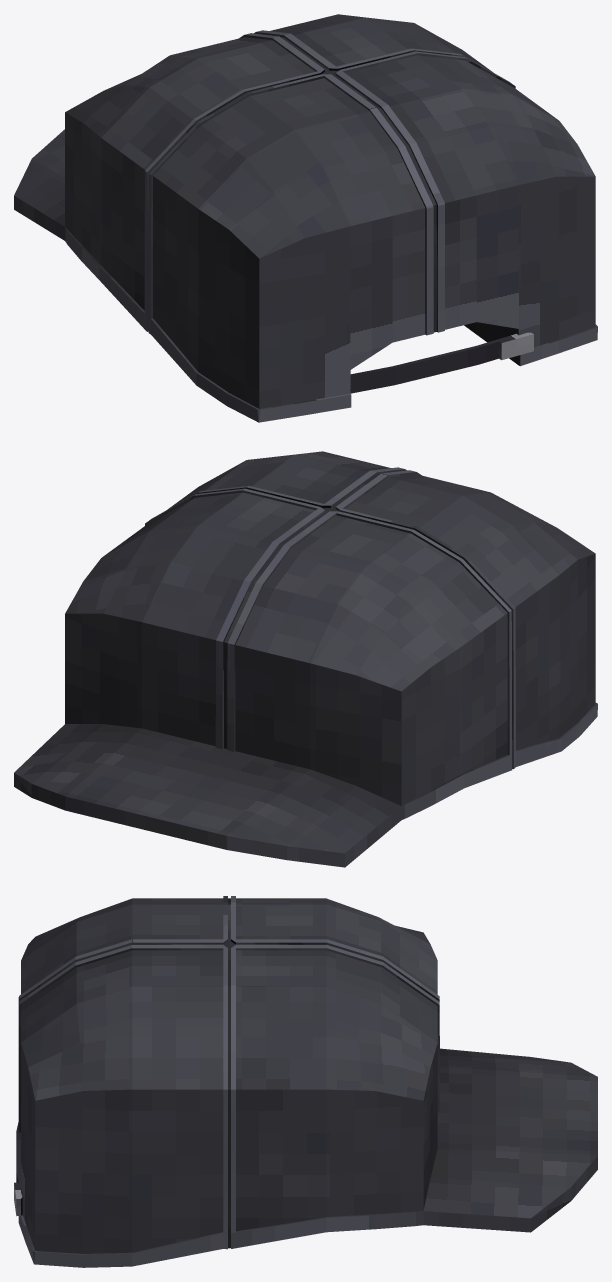
3 views of the same model, one above another, from view 1: azimuth 30°, elevation 25°; view 2: azimuth 150°, elevation 25°; view 3: azimuth 270°, elevation 25° (orthographic).
Visible parts, largest first — view 1: head; view 2: head; view 3: head.
Boxes of the visible parts, x1,y1,x2,y2 form: head: (14,14,597,422); head: (14,451,597,867); head: (14,896,597,1267).
Bounding box in the file's own units: 0.5562 × 0.3469 × 0.7709.
Materials: 1 (1 with a texture image).
